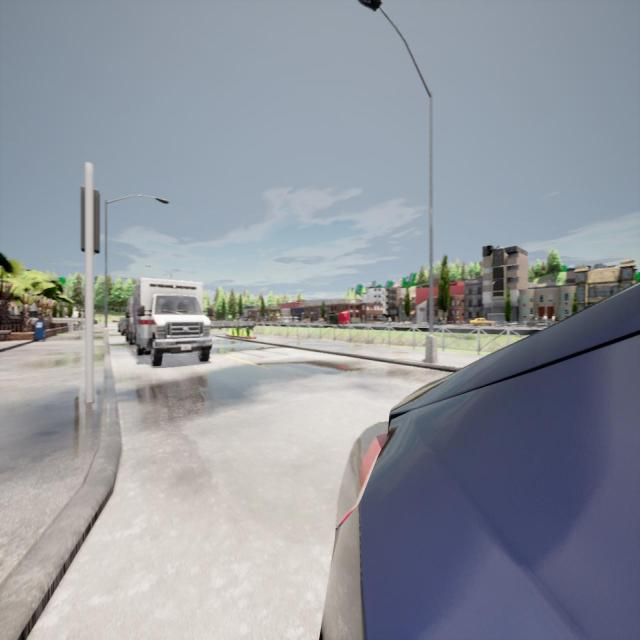Vehicle: (320, 282, 640, 640), (132, 276, 217, 375), (124, 296, 136, 349), (516, 314, 552, 329), (468, 312, 496, 329), (115, 313, 126, 337)
traffic_light: (80, 186, 100, 253)
